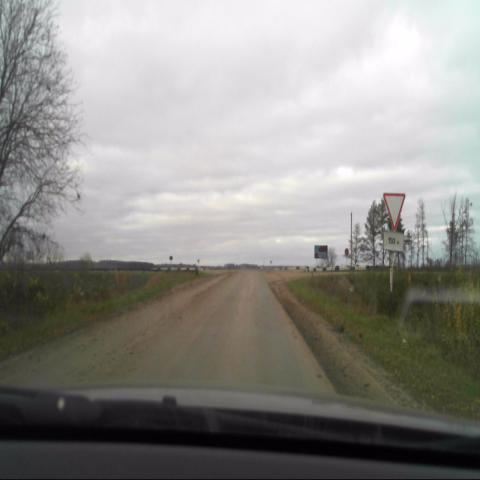8_1_1: (383, 231, 404, 252)
